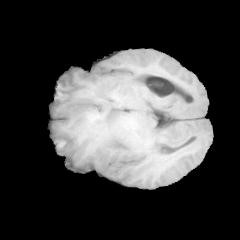glioma: (67, 109, 129, 153)
